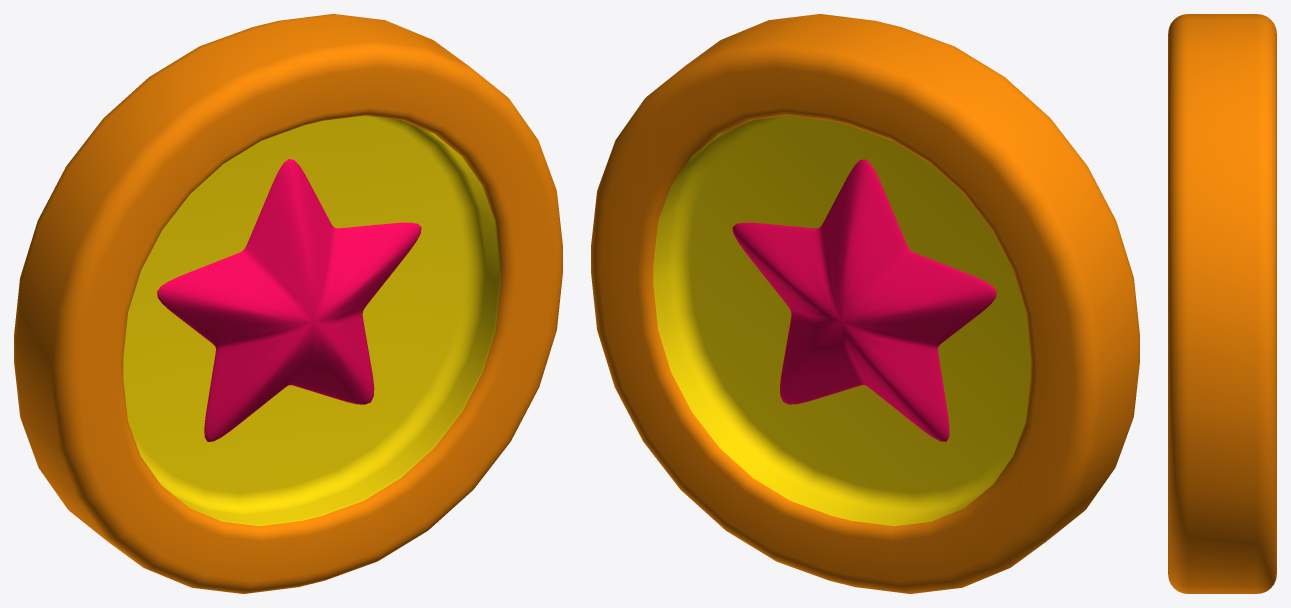
The model's file is coin.fbx.
3 renders of one model, left to right at view 1: azimuth 30°, elevation 25°; view 2: azimuth 150°, elevation 25°; view 3: azimuth 270°, elevation 25°, orthographic. The views are drawn at different scales.
Parts seen in each view (by area): view 1: Куб; view 2: Куб; view 3: Куб.
Boxes of the visible parts, x1,y1,x2,y2 form: Куб: (14, 14, 562, 593); Куб: (591, 14, 1139, 593); Куб: (1168, 14, 1276, 593).
Size of the model in its own units: 200 by 200 by 38.14.
